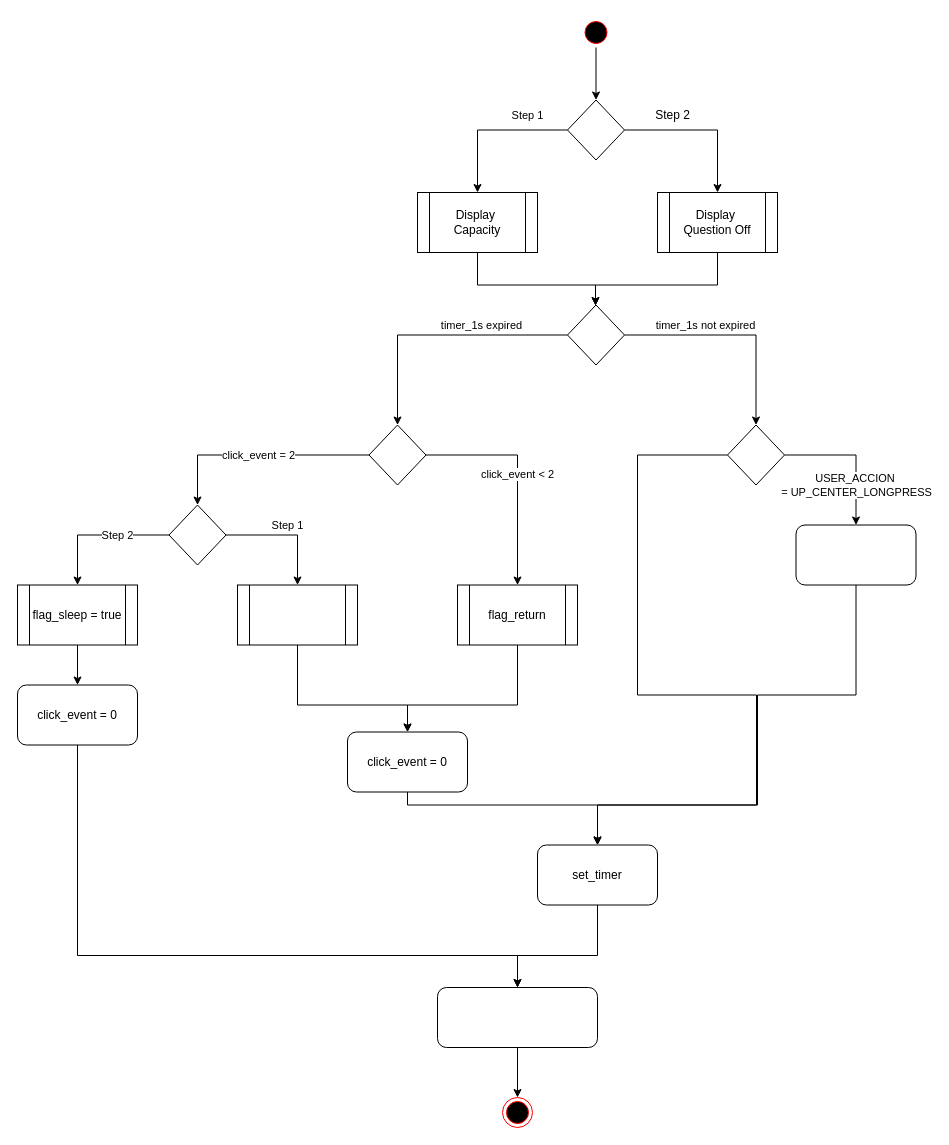
Some shapes in this 949 by 1145 pixel diagram are drawn without their labels. Each missing label, with the centre of its shape:
"click_event++" goes at point 855,554.
"step = step 2" goes at point 297,614.
"UpdatePowerBar(Power)" goes at point 517,1017.
